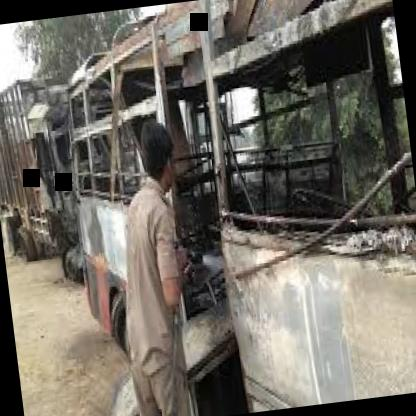accident: (41, 0, 416, 416)
